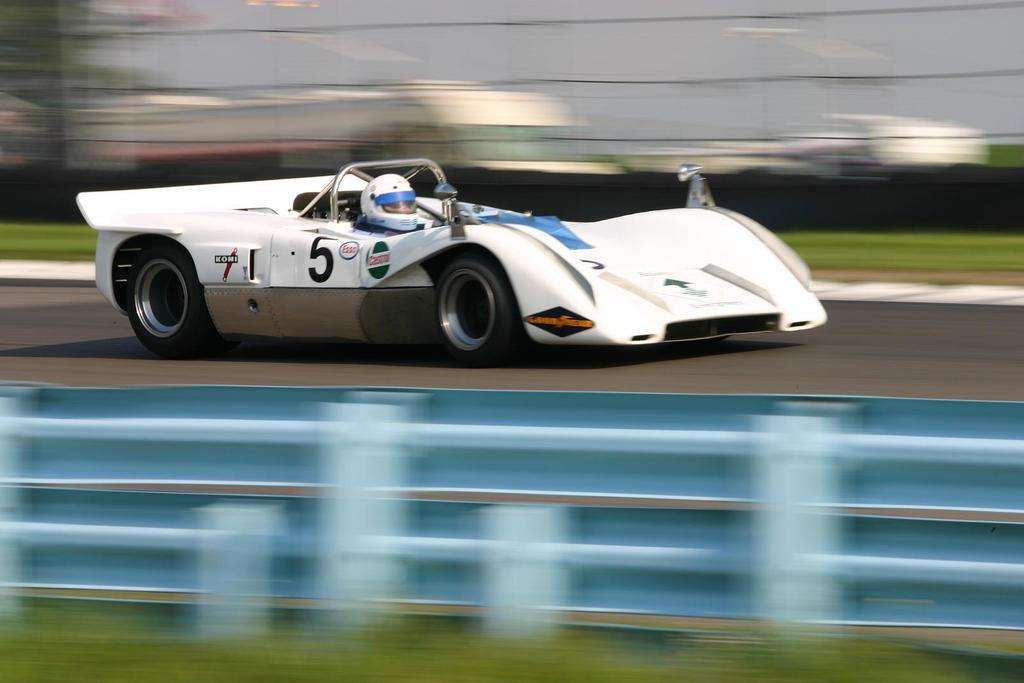Car: (73, 158, 828, 369)
